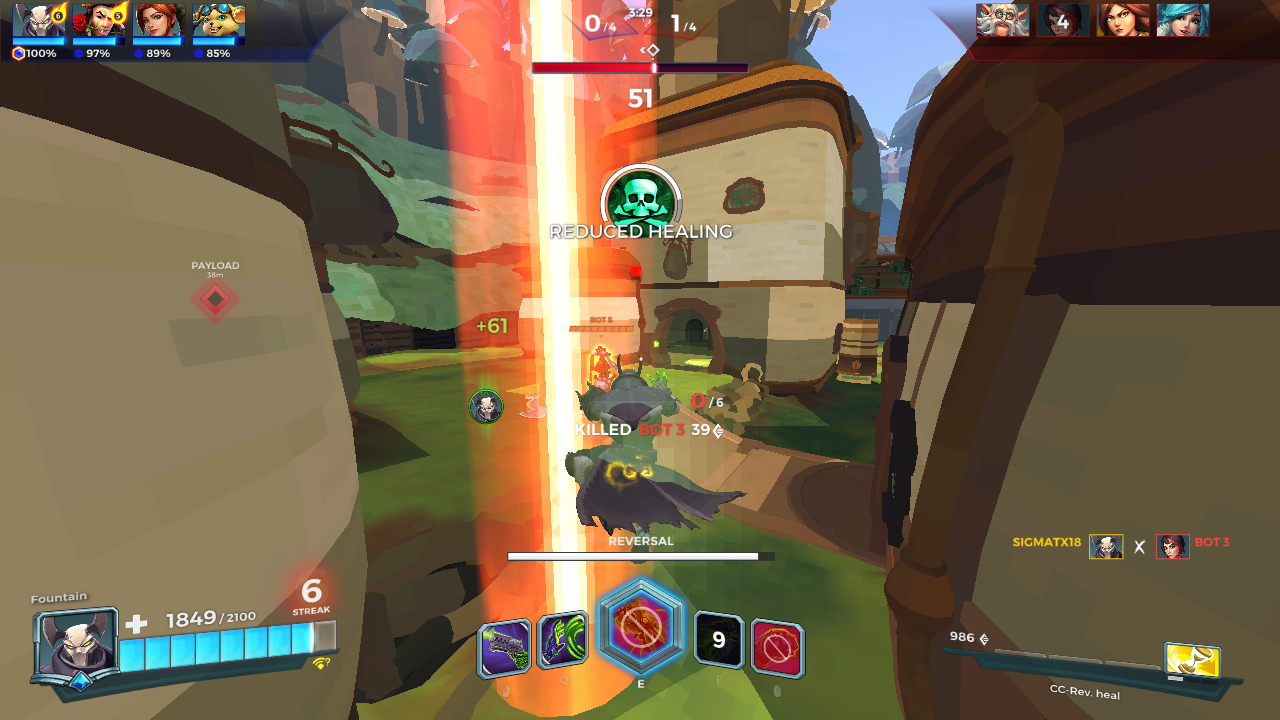model: (577, 343, 627, 388)
